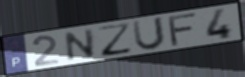2: (30, 34, 62, 68)
4: (205, 6, 236, 40)
F: (168, 11, 200, 48)
N: (64, 27, 97, 63)
U: (131, 15, 167, 52)
Z: (96, 21, 135, 58)
